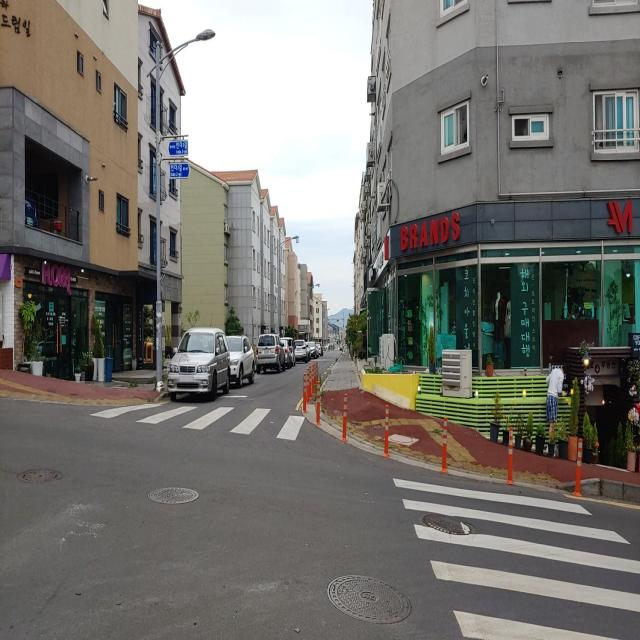횡단보도: (391, 473, 640, 639), (91, 398, 310, 446)
